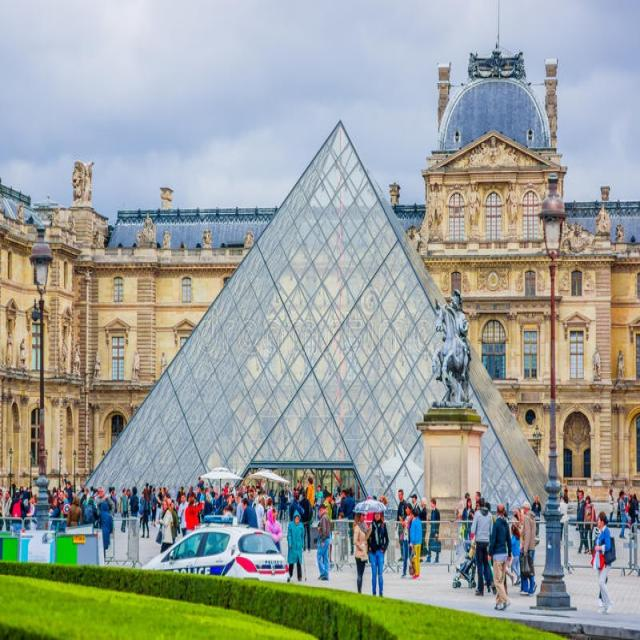body: (4, 331, 174, 388), (262, 467, 390, 523), (0, 475, 114, 530), (144, 475, 263, 526), (468, 494, 498, 598), (590, 508, 618, 617), (486, 500, 512, 612), (590, 510, 612, 608), (452, 488, 481, 562), (366, 510, 389, 598), (518, 499, 537, 598), (352, 506, 372, 594), (284, 508, 306, 586), (447, 286, 470, 354), (592, 344, 629, 386), (78, 494, 100, 560), (314, 500, 331, 582), (406, 505, 424, 581), (154, 498, 174, 564), (424, 497, 443, 564), (398, 500, 414, 578), (482, 500, 496, 586), (96, 500, 114, 562), (615, 480, 640, 523), (574, 488, 590, 554), (394, 488, 408, 563), (415, 496, 429, 564), (503, 509, 515, 588), (95, 485, 116, 529), (264, 506, 283, 554), (298, 487, 312, 552), (582, 493, 596, 557), (183, 494, 204, 536), (558, 483, 572, 538), (238, 496, 260, 530), (510, 522, 520, 586), (129, 485, 140, 539), (530, 493, 542, 540), (118, 486, 130, 533), (66, 496, 84, 527), (140, 487, 150, 539), (289, 493, 305, 525), (618, 490, 627, 541), (122, 488, 132, 530), (606, 486, 616, 526), (138, 490, 146, 530), (408, 493, 422, 514), (518, 508, 524, 548)
